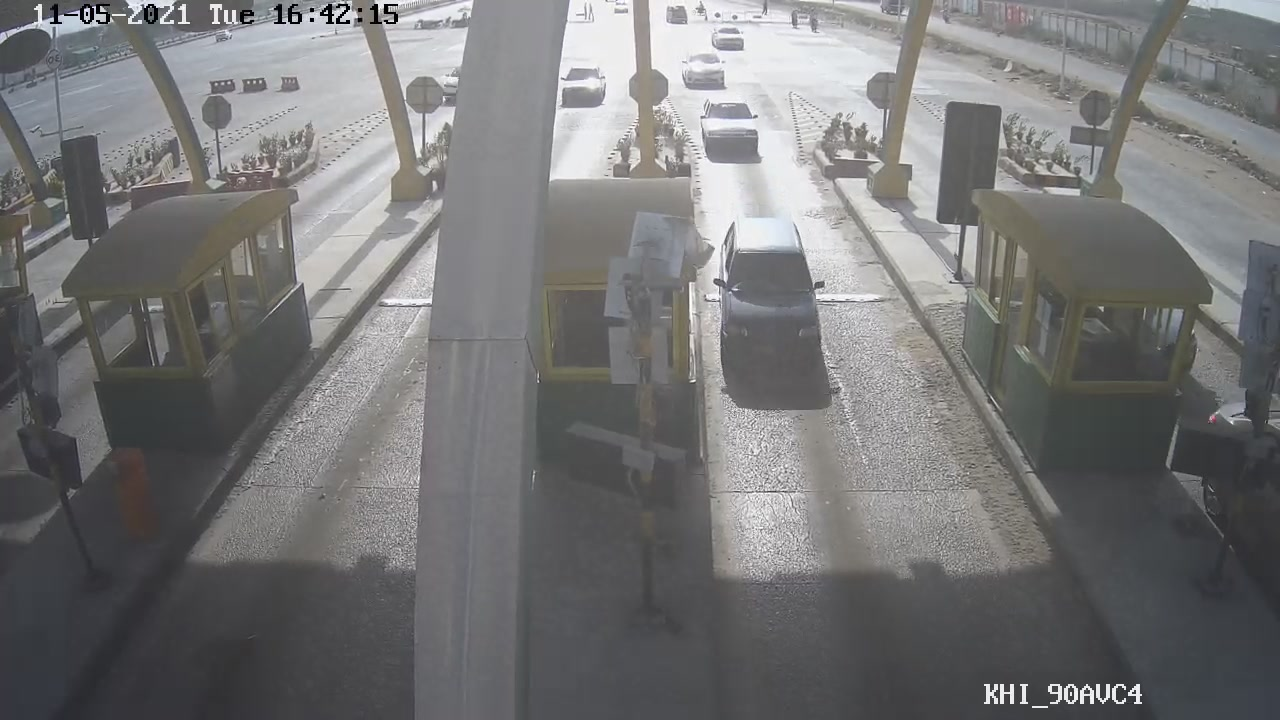F1: (711, 209, 835, 399)
